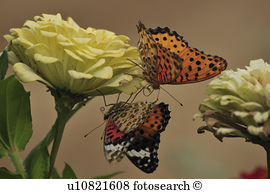Argyreus hyperbius: (124, 19, 227, 107), (82, 85, 170, 173)
butterfly: (126, 21, 229, 109), (84, 87, 172, 175)
